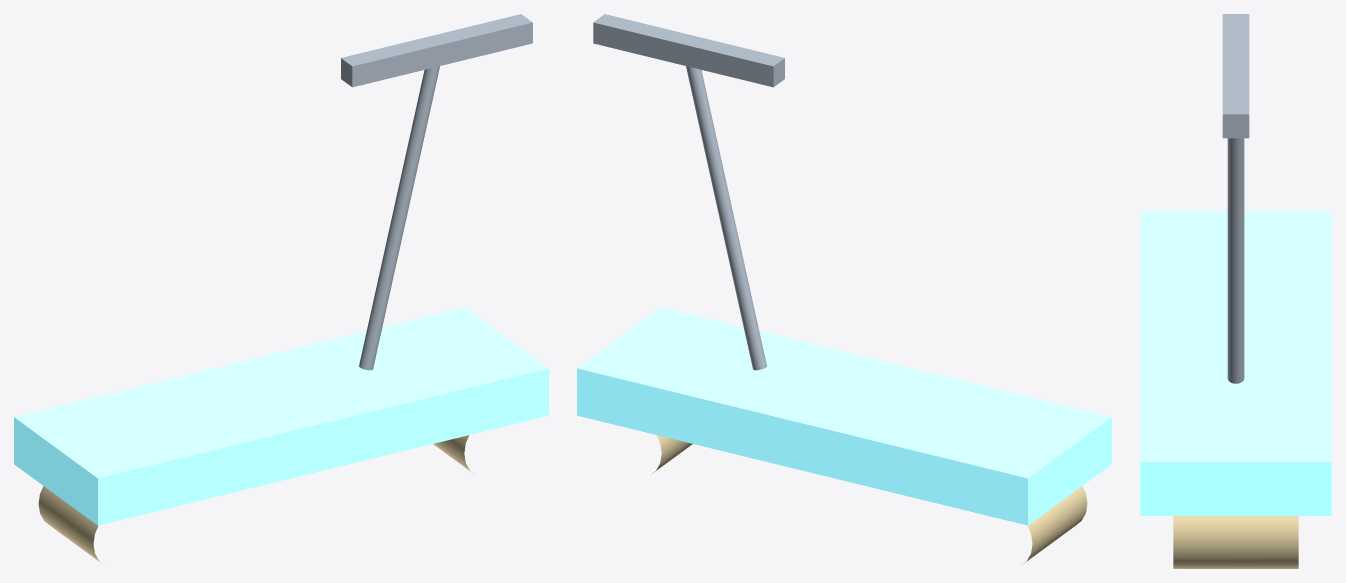
Rendered from hover-scooter.glb.
3 views of the same model, side by side, from view 1: azimuth 30°, elevation 25°; view 2: azimuth 150°, elevation 25°; view 3: azimuth 270°, elevation 25° (orthographic). The views are drawn at different scales.
Visible parts, largest first — view 1: hover-scooter-deck, hover-scooter-control-bar, hover-scooter-handle, hover-scooter-back-engine; view 2: hover-scooter-deck, hover-scooter-control-bar, hover-scooter-handle, hover-scooter-back-engine; view 3: hover-scooter-deck, hover-scooter-front-engine, hover-scooter-handle, hover-scooter-control-bar.
Boxes of the visible parts, x1,y1,x2,y2 form: hover-scooter-deck: (14,307,548,525); hover-scooter-control-bar: (341,14,532,87); hover-scooter-handle: (359,66,439,370); hover-scooter-back-engine: (38,486,101,563); hover-scooter-deck: (577,307,1111,525); hover-scooter-control-bar: (593,14,784,87); hover-scooter-handle: (686,66,766,370); hover-scooter-back-engine: (1024,486,1087,563); hover-scooter-deck: (1140,211,1331,515); hover-scooter-front-engine: (1173,516,1298,568); hover-scooter-handle: (1227,138,1244,383); hover-scooter-control-bar: (1222,14,1249,138).
Bounding box in the file's own units: 1.88 × 1.62 × 0.58.
